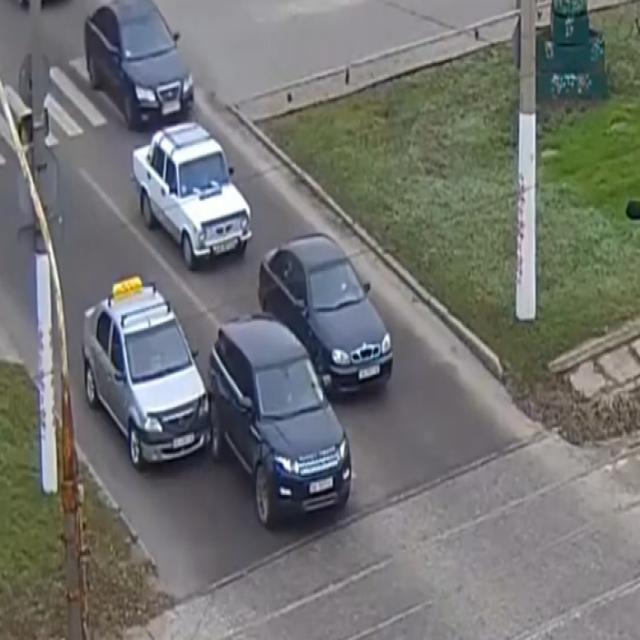non emergency car: (210, 310, 353, 526), (83, 275, 213, 472), (260, 233, 394, 398), (134, 123, 255, 273), (86, 1, 196, 133)
